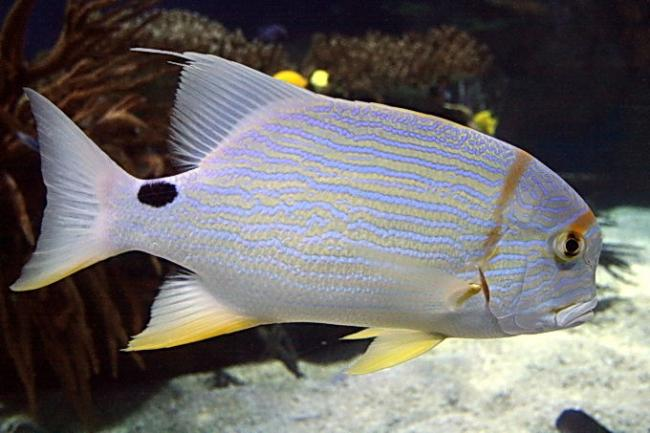fish: (10, 48, 604, 375)
